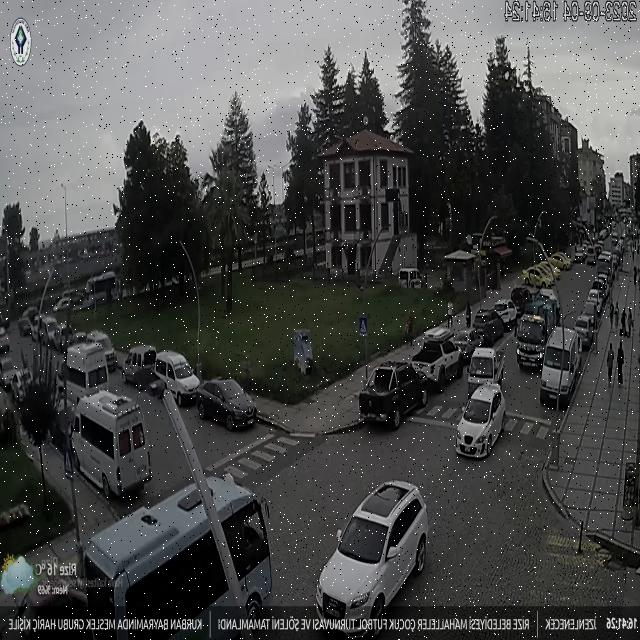car: (85, 475, 275, 640), (317, 475, 430, 622), (66, 390, 151, 495), (356, 355, 424, 430), (457, 381, 505, 464), (402, 332, 466, 389), (199, 374, 258, 434), (574, 311, 595, 347), (495, 295, 515, 325)
